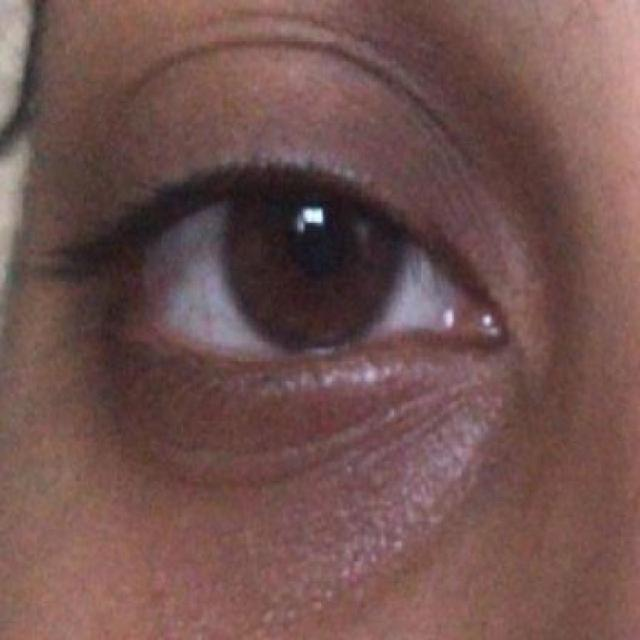awake: (104, 137, 504, 414)
